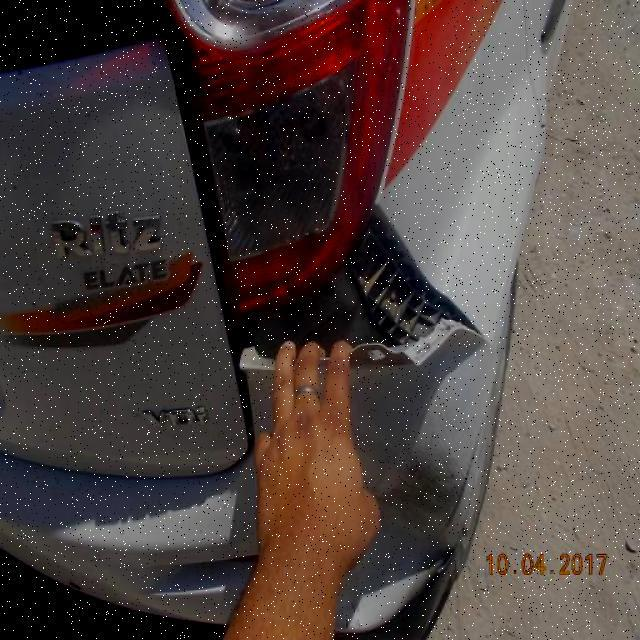car damage: (235, 205, 481, 368)
